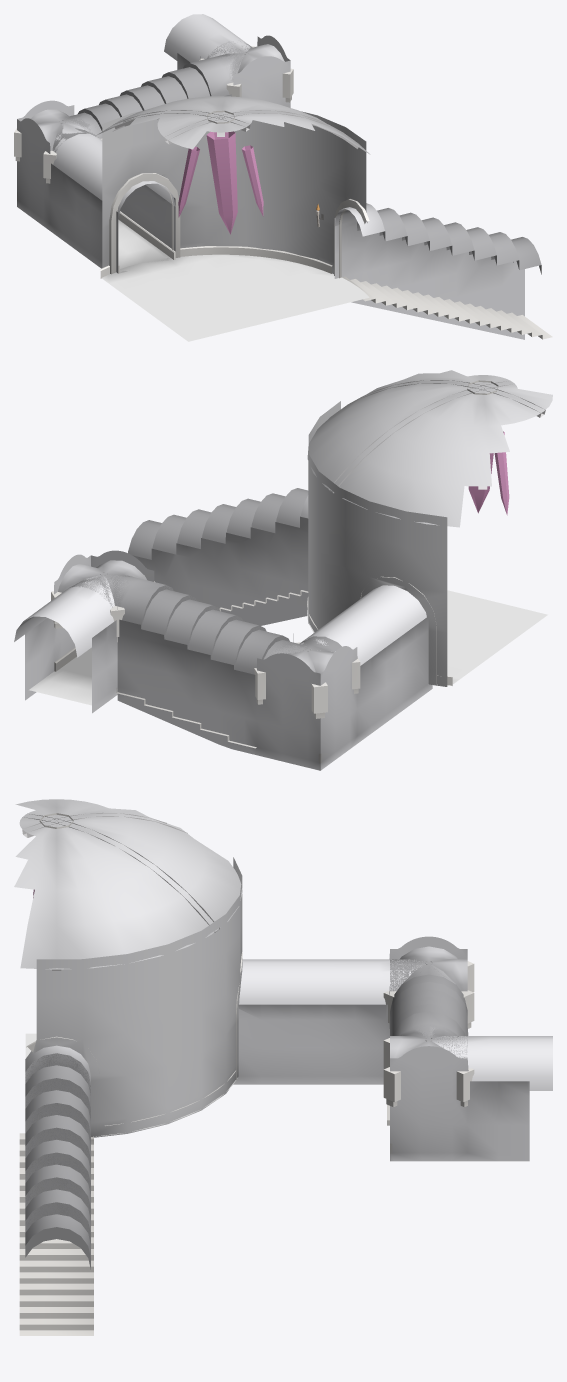
The model's file is crypt_06_as.glb.
3 renders of one model, top to bottom at view 1: azimuth 30°, elevation 25°; view 2: azimuth 150°, elevation 25°; view 3: azimuth 270°, elevation 25°, orthographic. The views are drawn at different scales.
Visible parts, largest first — view 1: crypt_06_as; view 2: crypt_06_as; view 3: crypt_06_as.
Boxes of the visible parts, left/top/right/bottom form: crypt_06_as: left=14, top=14, right=552, bottom=341; crypt_06_as: left=14, top=370, right=552, bottom=770; crypt_06_as: left=14, top=799, right=552, bottom=1335.
Bounding box in the file's own units: 16.57 × 13 × 17.38.
